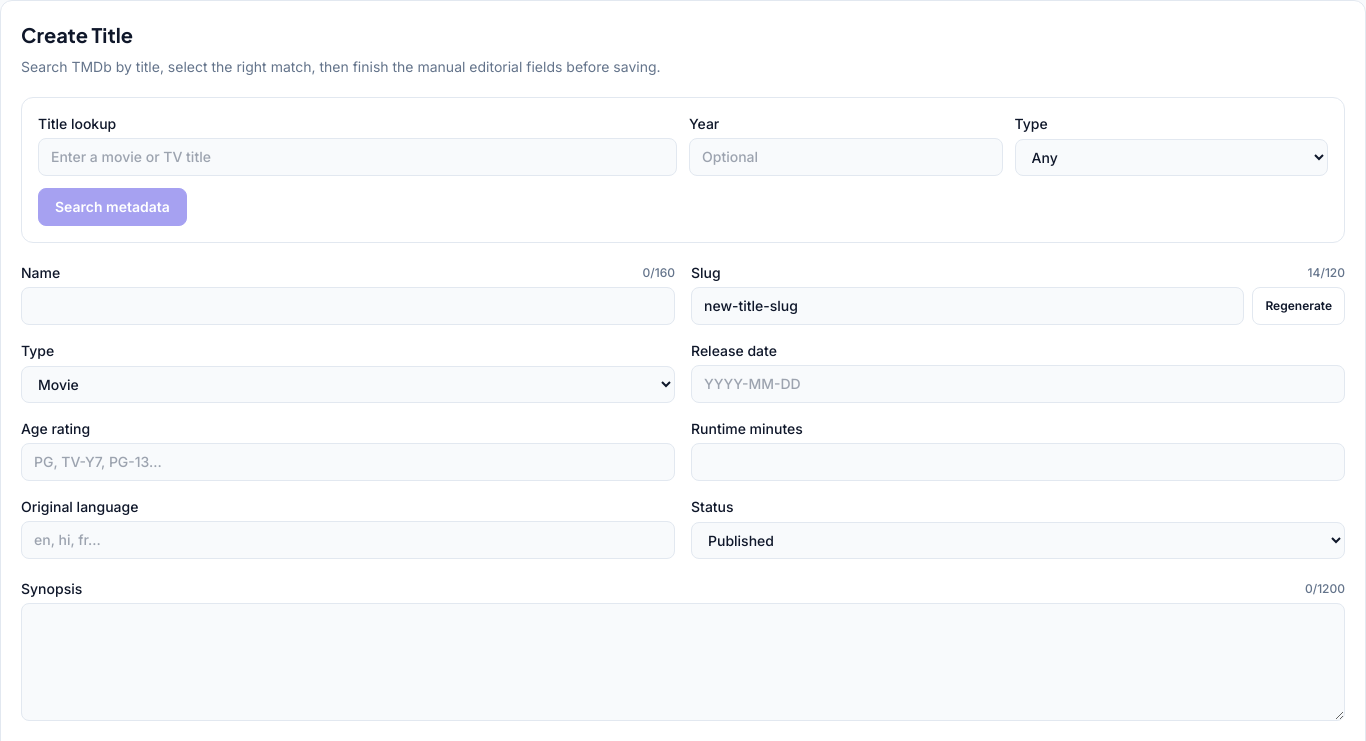
AdminTitleForm › warns when the selected metadata slug already exists in the database
In the field labelled "Title lookup": (358, 157) [38, 138, 677, 176], type "The Matrix"
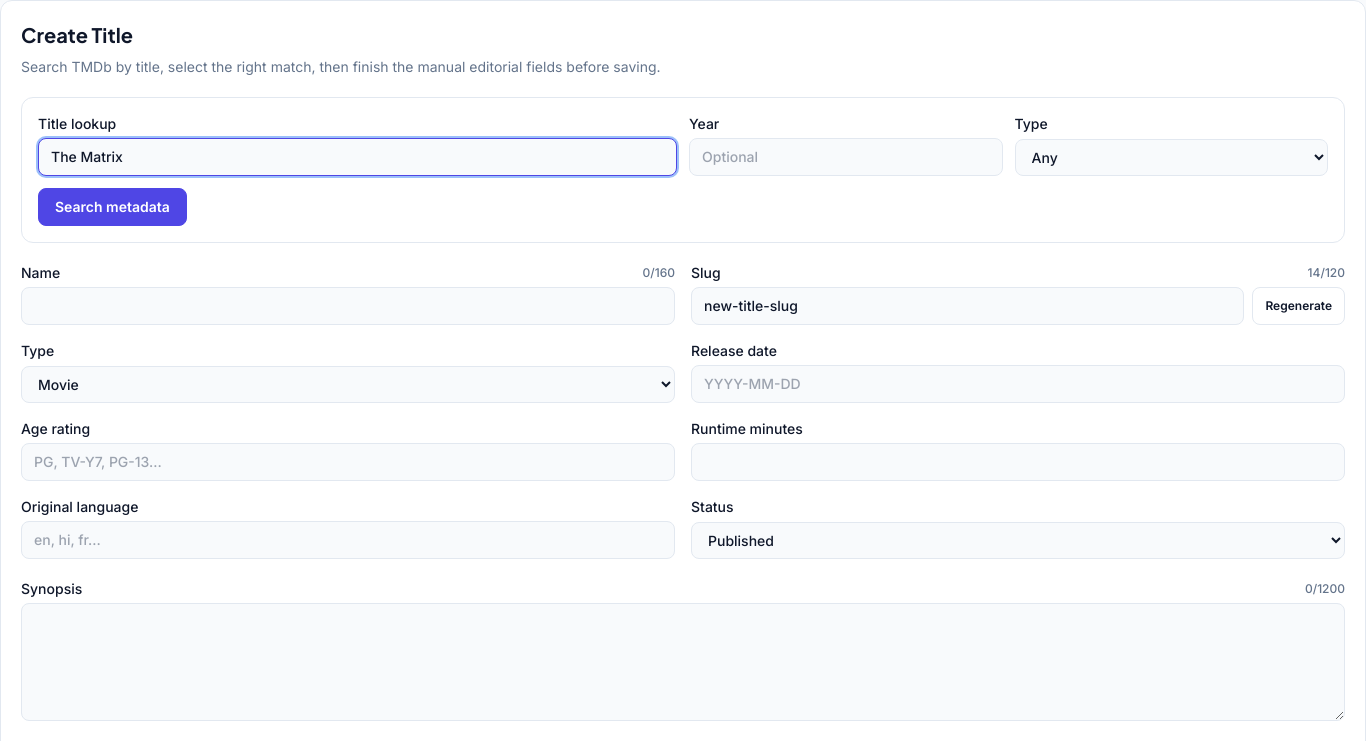
Click the button "Search metadata": (112, 207) [38, 188, 187, 226]
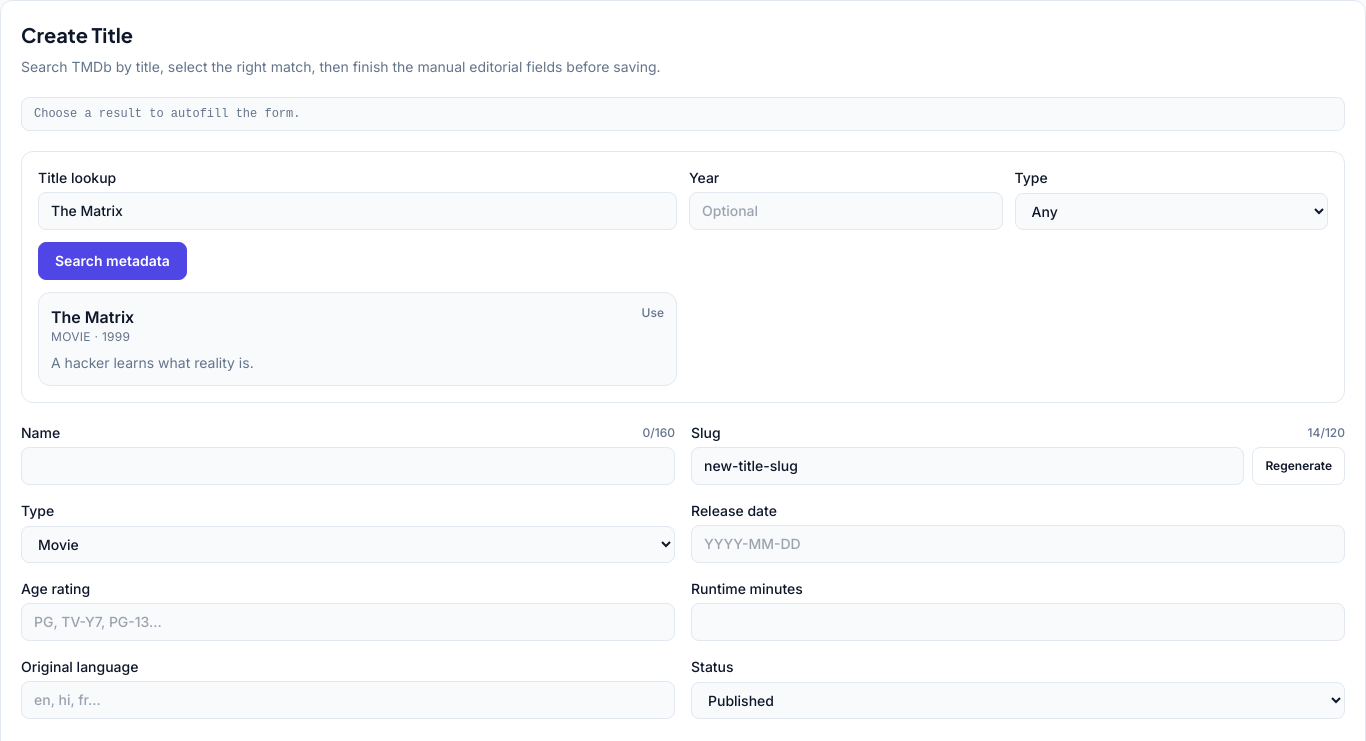
Click the button "The Matrix Movie · 1999 Use A hacker learns what reality is.": (93, 317) [38, 292, 677, 386]
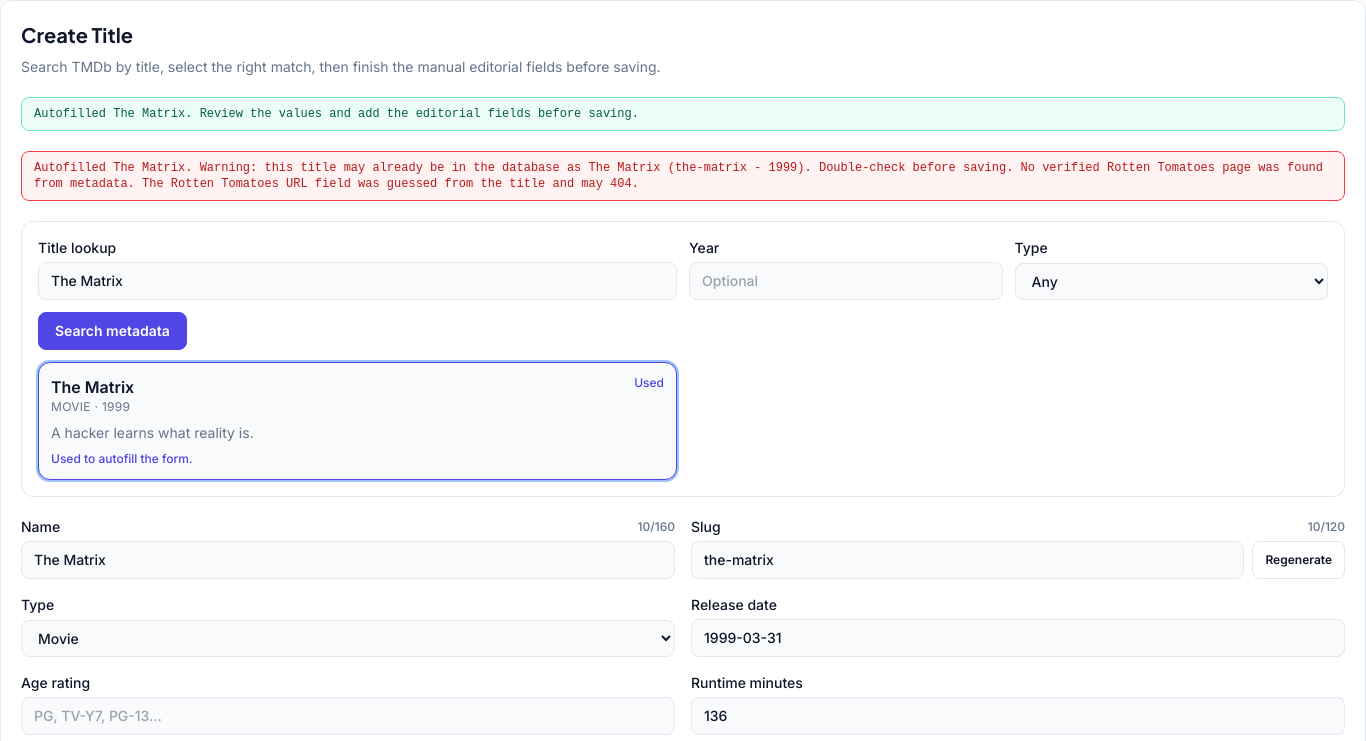
Now the 2nd message shows "Autofilled The Matrix. Warning: this title may already be in the database as The Matrix (the-matrix - 1999). Double-check before saving.", box [34, 161, 1323, 191]
